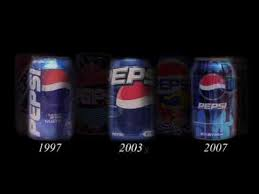pepsi: (28, 61, 74, 142), (195, 73, 229, 102), (195, 101, 231, 111)
